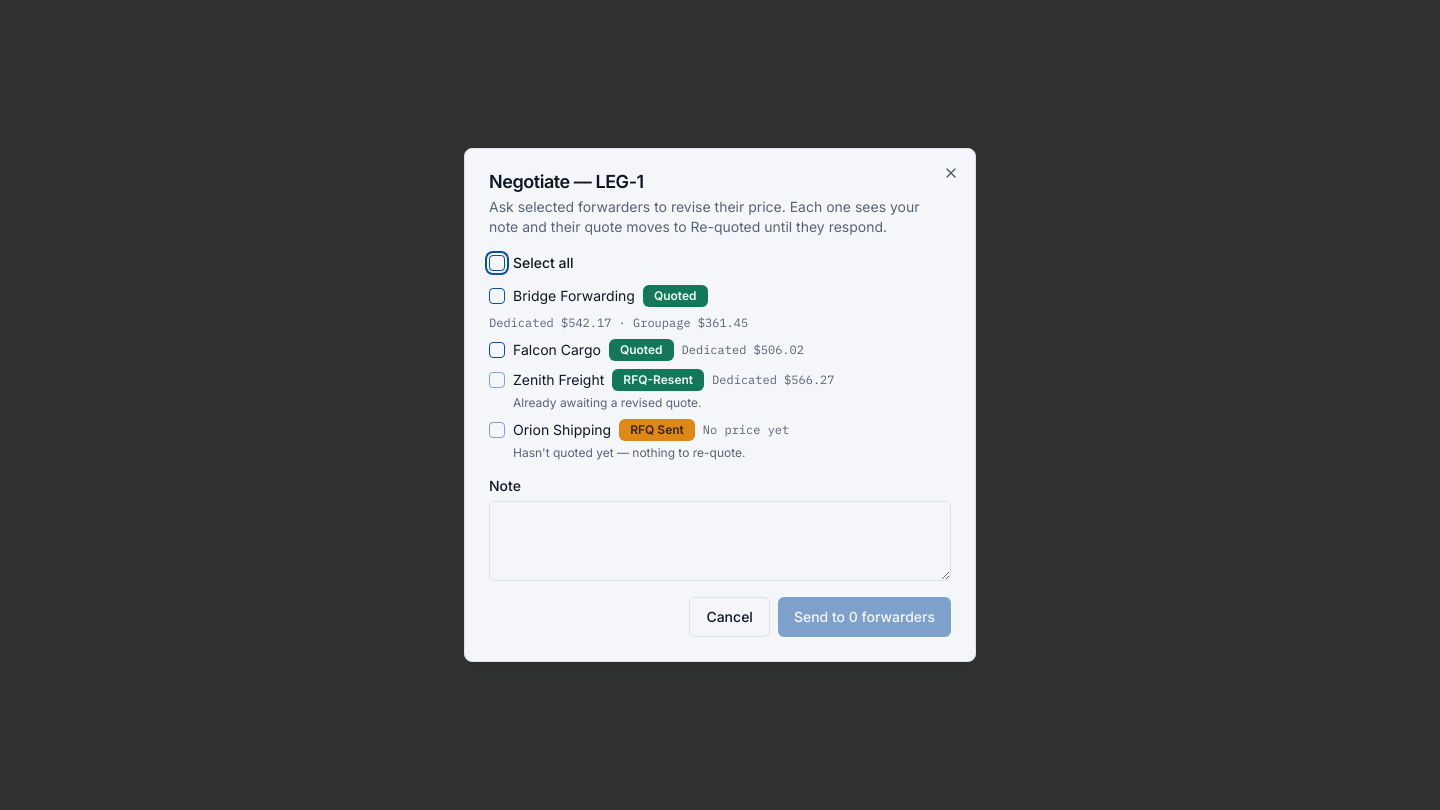
NegotiateDialog › disables Send until every required note is filled in
This screenshot has width=1440, height=810.
Click the checkbox named "select all" at [497, 263], box [489,255,505,271]
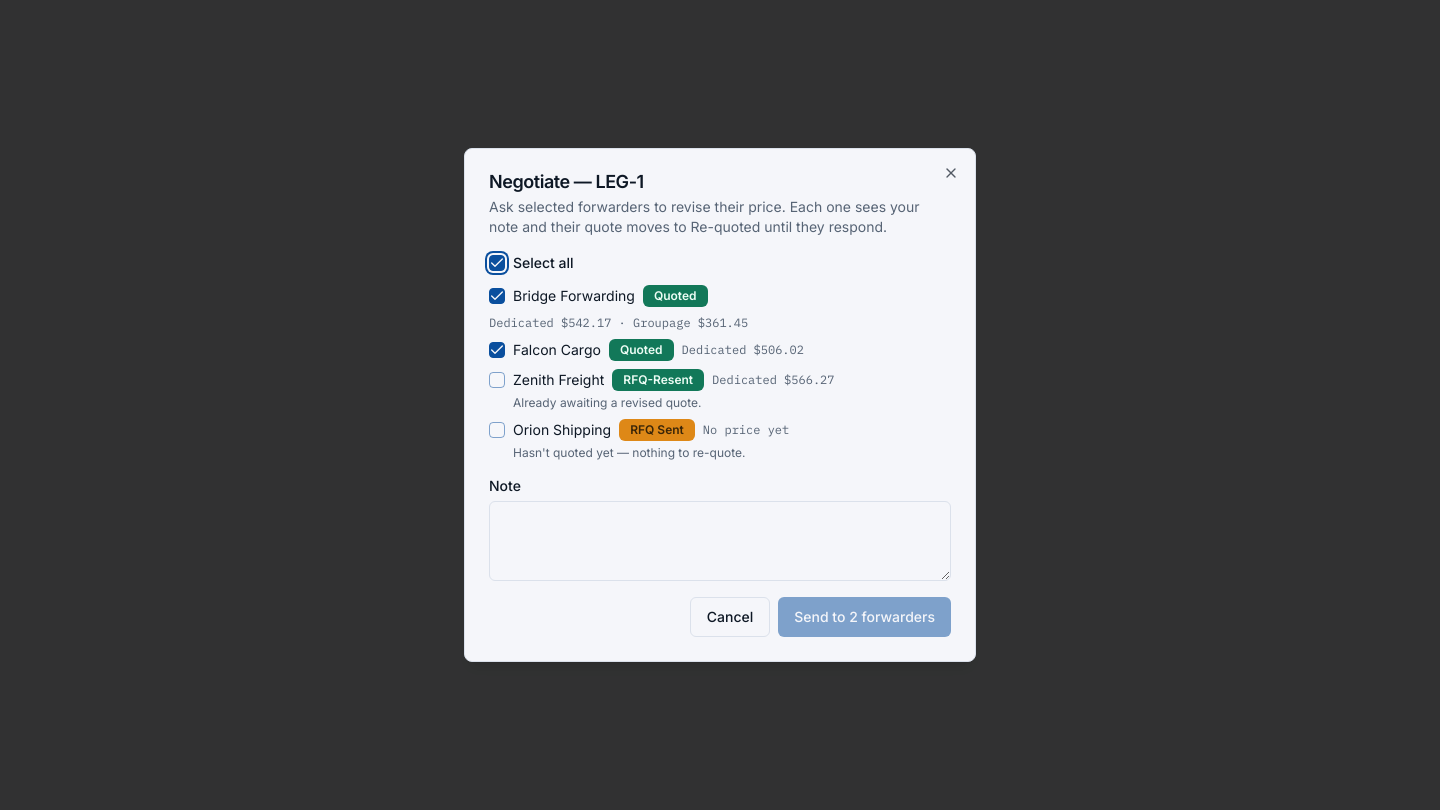
Expected: the button "Send to 2 forwarders" is disabled, [778,597,951,637]
Type "please revise" into the text box labelled "Note" at [720, 541], box [489,501,951,581]
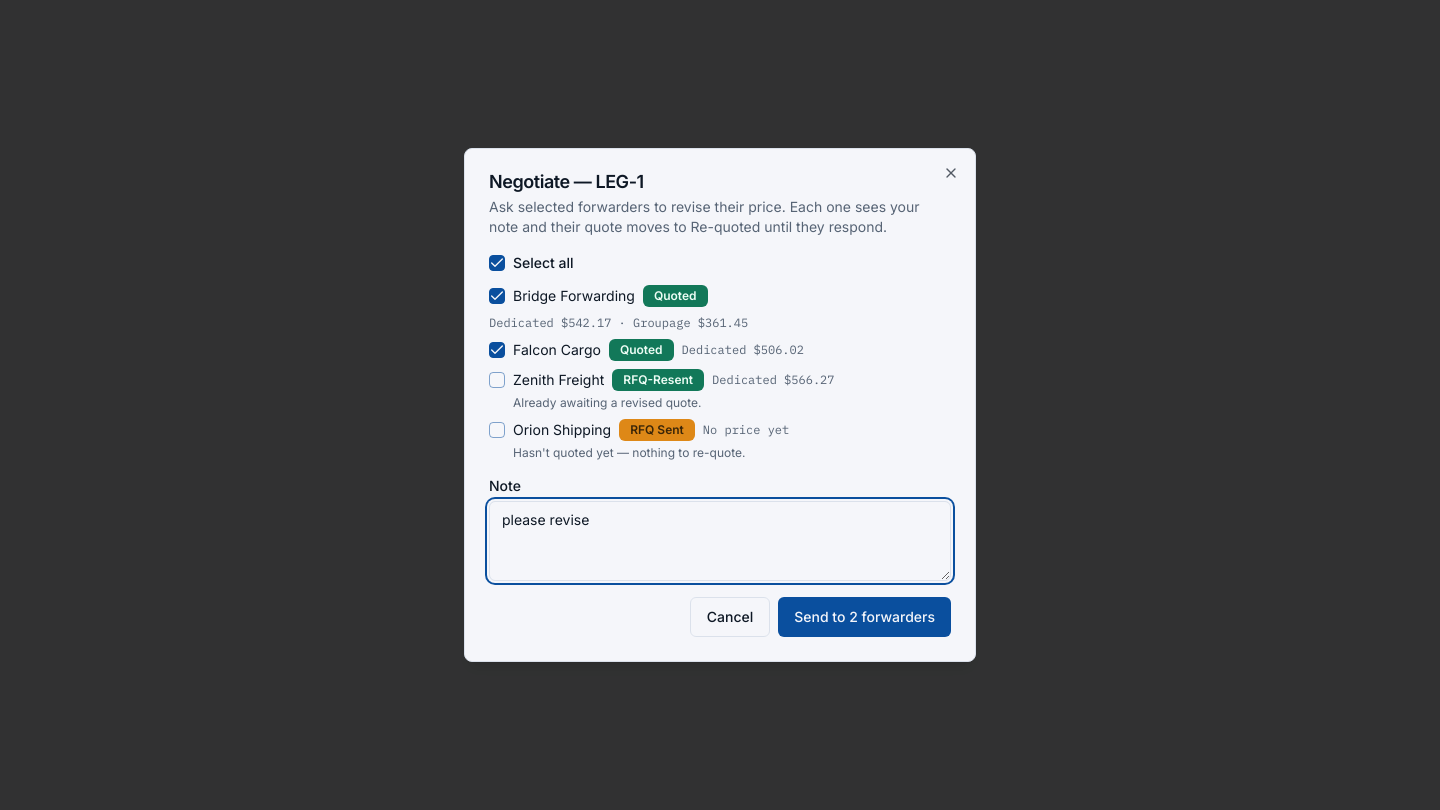
Now the button "Send to 2 forwarders" is enabled, box [778,597,951,637]
